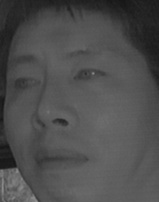eye: (73, 66, 107, 86), (12, 74, 39, 92)
mouth: (35, 144, 89, 174)
